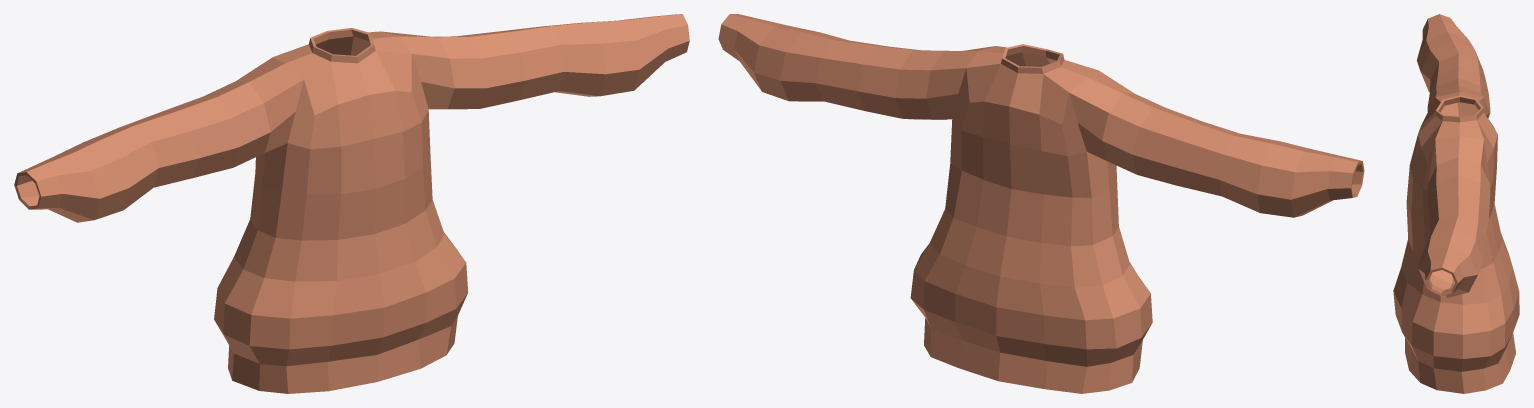
File: ItemBuzo01.fbx
3 views of the same model, side by side, from view 1: azimuth 30°, elevation 25°; view 2: azimuth 150°, elevation 25°; view 3: azimuth 270°, elevation 25° (orthographic). The views are drawn at different scales.
Visible parts, largest first — view 1: Buzo; view 2: Buzo; view 3: Buzo.
Boxes of the visible parts, bbox=[...] form: Buzo: bbox=[14, 14, 689, 393]; Buzo: bbox=[718, 14, 1364, 393]; Buzo: bbox=[1393, 14, 1519, 393].
Size of the model in its own units: 87.67 by 40.15 by 18.56.
